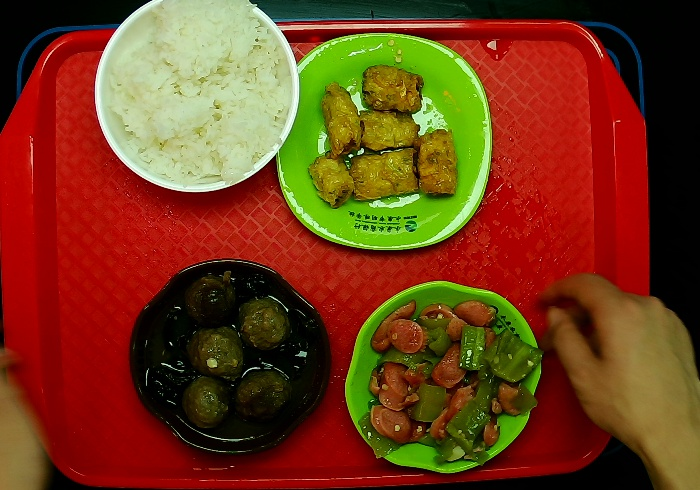YKMZ-Fan_Wan: (92, 1, 303, 197)
YKMZ-Ka_Fei_Ao_Bian_Wan: (126, 258, 338, 463)
YKMZ-Lv_Se_Ao_Bian_Wan: (343, 278, 542, 477)
YKMZ-Lv_Se_Fang_Die: (274, 30, 493, 252)
